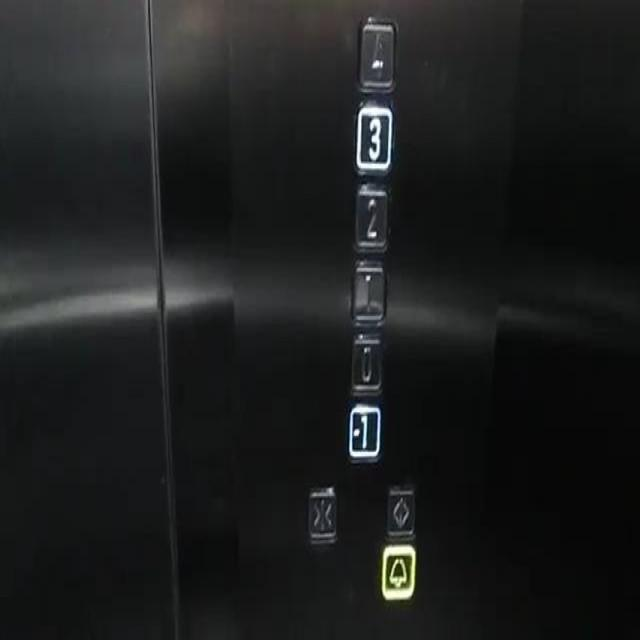-1: (347, 401, 381, 463)
0: (350, 332, 382, 396)
1: (351, 257, 386, 327)
2: (354, 181, 391, 255)
3: (352, 98, 396, 174)
4: (356, 15, 398, 92)
alarm: (380, 542, 415, 598)
close: (307, 485, 338, 543)
open: (385, 481, 416, 536)
